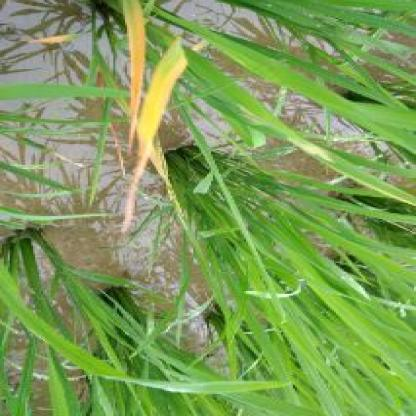Tungro: (120, 1, 183, 195)
